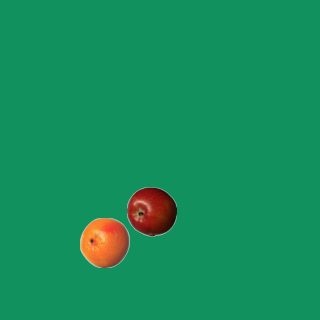Apple Braeburn: (126, 186, 176, 236)
Grapefruit Pink: (79, 217, 129, 267)
